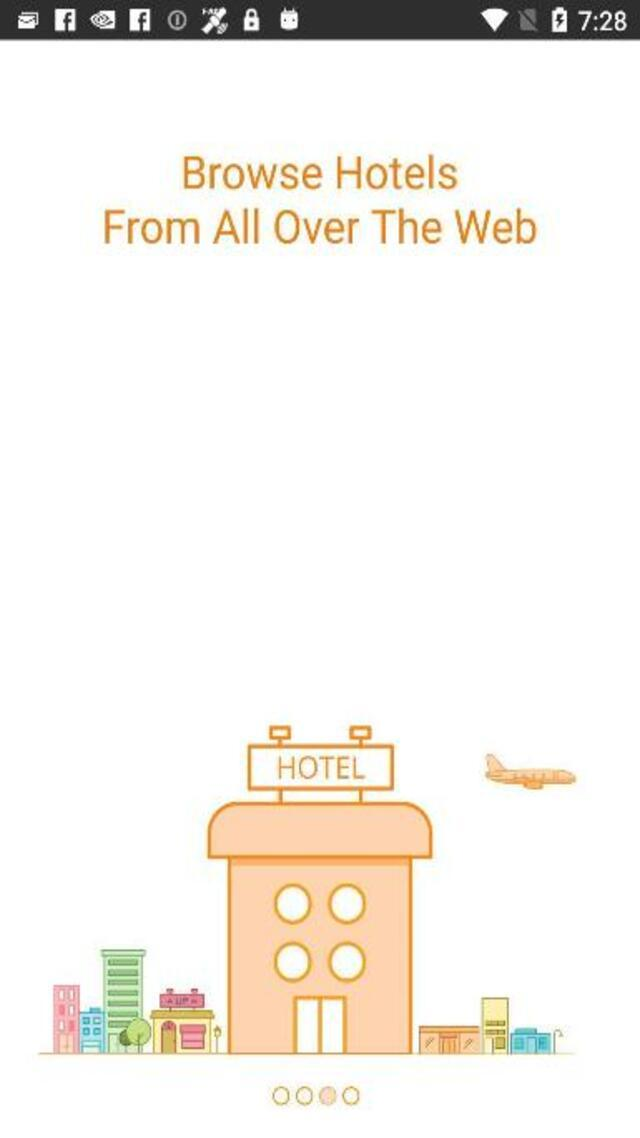Image: (38, 724, 577, 1054)
Text: (96, 203, 541, 250), (177, 154, 463, 194)
